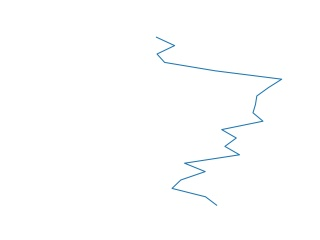floodPlain: (155, 37, 283, 208)
